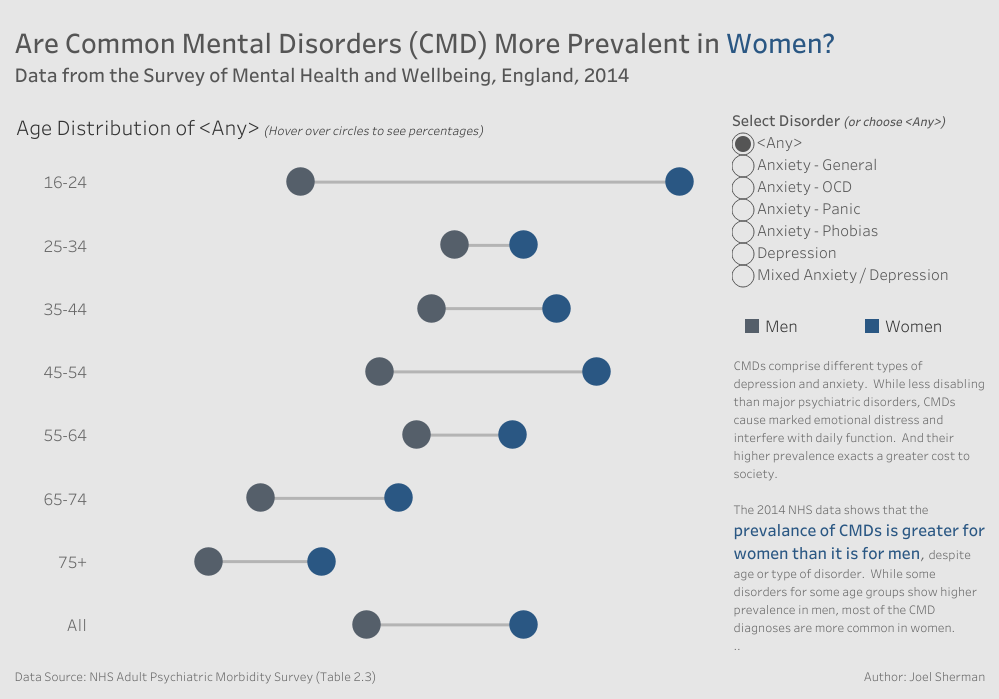

The page's visual inventory and layout, read from the dashboard file:
{"tool":"tableau","page":{"name":"Dashboard 1","canvas":[1000,700],"ordinal":0},"visuals":[{"type":"worksheet","box":[0,0,1000,700]},{"type":"worksheet","box":[8,8,984,95.1]},{"type":"worksheet","param":"horz","box":[8,103.1,719,556.9]},{"type":"worksheet","box":[8,103.1,719,556.9]},{"type":"worksheet","title":"Prevalence By Age","mark":"Circle","rows":["Age"],"cols":["%Pop","%Pop"],"box":[8,103.1,719,556.9]},{"type":"worksheet","title":"Prevalence By Age","mark":"Circle","rows":["Age"],"cols":["%Pop","%Pop"],"param":"[federated.1fqajrh1dzywns1barrfm1ht9sh6].[none:CMD:nk]","box":[727,103.1,265,197.9]},{"type":"worksheet","title":"Prevalence By Age","mark":"Circle","rows":["Age"],"cols":["%Pop","%Pop"],"param":"[federated.1fqajrh1dzywns1barrfm1ht9sh6].[none:Gender:nk]","box":[727,301,265,49]},{"type":"worksheet","box":[727,350,265,310]},{"type":"worksheet","box":[8,660,492,32]},{"type":"worksheet","box":[500,660,492,32]}]}

Visuals, with their boxes in screenshot pixels (x1, y1, x2, y2), scaled from the page's 1000x700 canvas onto the 999x699 screenshot:
worksheet: (0,0,998,698)
worksheet: (8,8,991,103)
worksheet: (8,103,726,659)
worksheet: (8,103,726,659)
"Prevalence By Age" worksheet (Circle marks): (8,103,726,659)
"Prevalence By Age" worksheet (Circle marks): (726,103,991,301)
"Prevalence By Age" worksheet (Circle marks): (726,301,991,350)
worksheet: (726,350,991,659)
worksheet: (8,659,500,691)
worksheet: (500,659,991,691)
